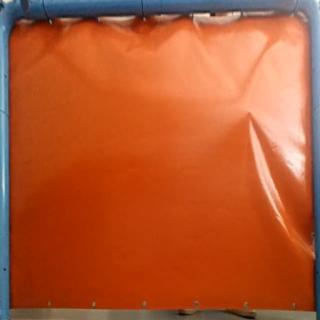Hit-hRxx: (242, 108, 258, 120)
